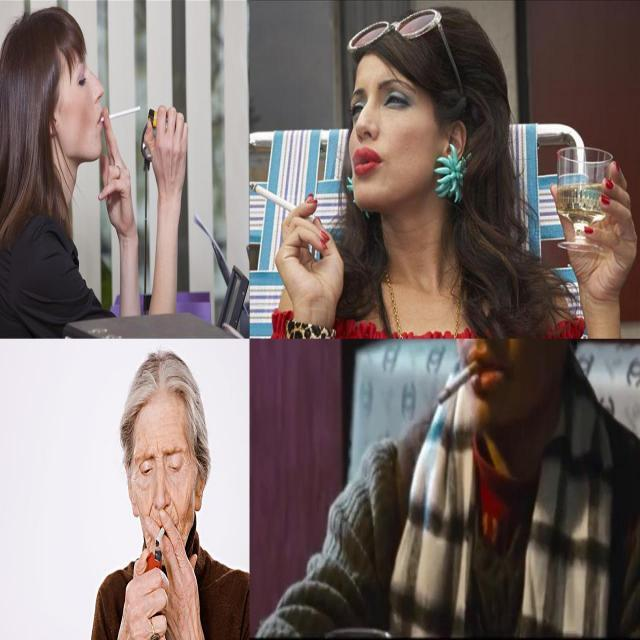cigarette: (250, 182, 315, 224), (438, 356, 486, 412), (96, 101, 142, 121), (152, 522, 166, 556)
